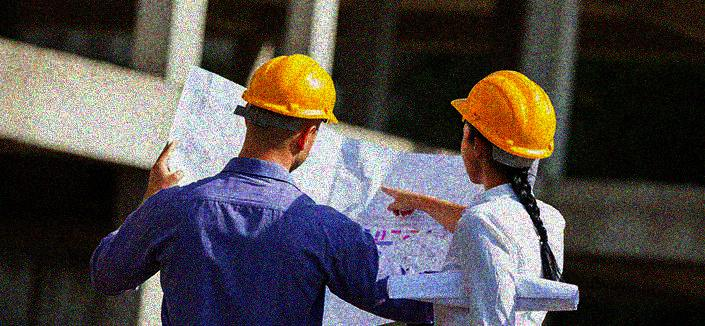helmet: (449, 69, 557, 186), (236, 54, 340, 172)
